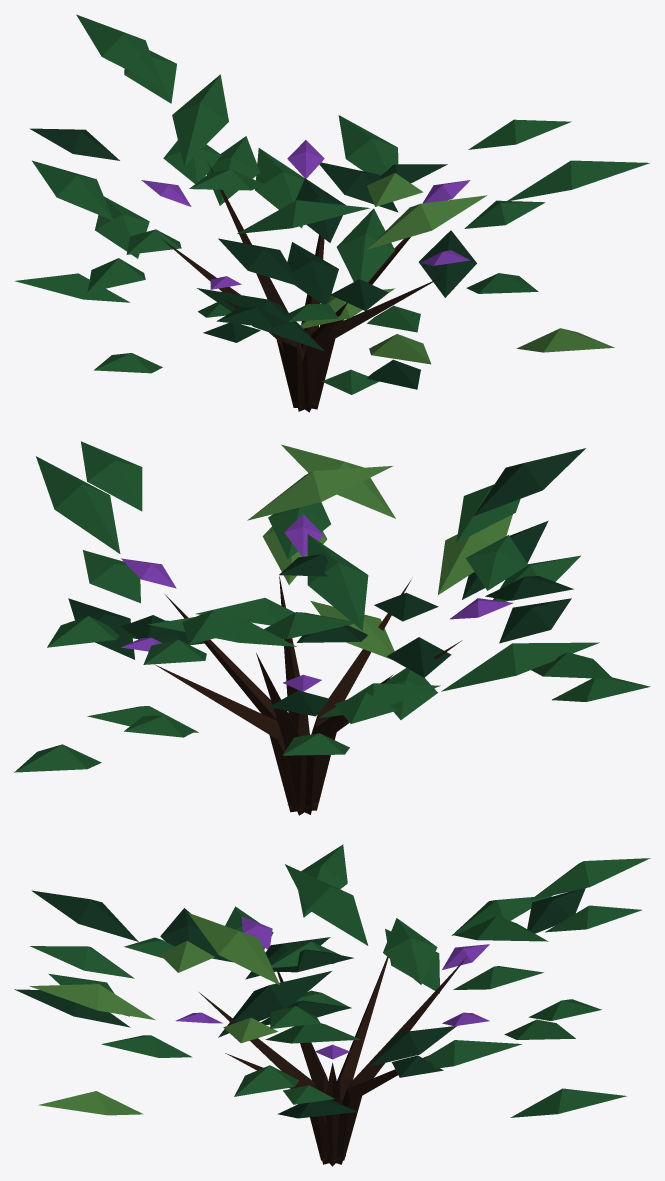
Rendered from Arbusto_florido_LOD1.fbx.
3 renders of one model, top to bottom at view 1: azimuth 30°, elevation 25°; view 2: azimuth 150°, elevation 25°; view 3: azimuth 270°, elevation 25°, orthographic. The views are drawn at different scales.
Parts seen in each view (by area): view 1: Arbusto_florido_LOD1; view 2: Arbusto_florido_LOD1; view 3: Arbusto_florido_LOD1.
Boxes of the visible parts, x1,y1,x2,y2 form: Arbusto_florido_LOD1: (15,14,649,412); Arbusto_florido_LOD1: (14,441,650,815); Arbusto_florido_LOD1: (14,844,650,1166).
Bounding box in the file's own units: 253 × 121 × 252.
Materials: 1 (1 with a texture image).
